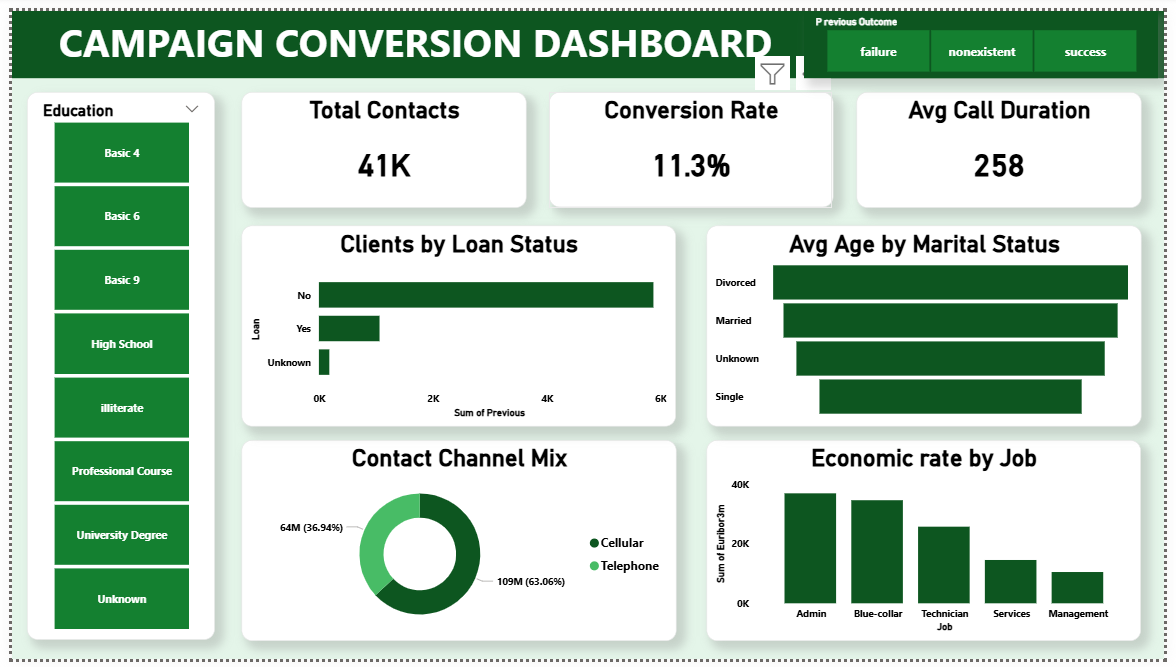

The dashboard page shown, as its layout file describes it:
{"tool":"powerbi","page":{"name":"Page 1","canvas":[1280,720],"ordinal":0},"visuals":[{"type":"textbox","box":[0,0,1280.8,74.5],"z":0},{"type":"card","title":"Avg Call Duration","fields":{"Values":["bankmarketing.Average Call Duration"]},"box":[938.3,90,316.7,128.3],"z":1000},{"type":"card","title":"Conversion Rate","fields":{"Values":["bankmarketing.Conversion Rate %"]},"box":[595.9,90.7,315.7,127.9],"z":2000},{"type":"card","title":"Total Contacts","fields":{"Values":["bankmarketing.Total Contacts"]},"box":[255,90,316.7,128.3],"z":3000},{"type":"clusteredColumnChart","title":"Economic rate by Job","fields":{"Category":["bankmarketing.Job"],"Y":["Sum(bankmarketing.Euribor3m)"]},"box":[772.4,476.1,482.5,223.5],"z":4000},{"type":"funnel","title":"Avg Age by Marital Status","fields":{"Category":["bankmarketing.Marital"],"Y":["Avg(bankmarketing.Age)"]},"box":[771.7,238.3,483.3,223.3],"z":5000},{"type":"donutChart","title":"Contact Channel Mix","fields":{"Category":["bankmarketing.Contact"],"Y":["Sum(bankmarketing.Nr.Employed)"]},"box":[255,476.7,483.3,223.3],"z":6000},{"type":"slicer","fields":{"Values":["bankmarketing.Education"]},"box":[16.2,90.7,208.9,608.8],"z":8000},{"type":"slicer","fields":{"Values":["bankmarketing.Poutcome"]},"box":[879.2,0,393.5,74.5],"z":9000},{"type":"clusteredBarChart","title":"Clients by Loan Status","fields":{"Category":["bankmarketing.Loan"],"Y":["Sum(bankmarketing.Previous)"]},"box":[254.2,238,482.5,223.5],"z":9001}]}

Visuals, with their boxes in screenshot pixels (x1, y1, x2, y2), scaled from the page's 1280x720 canvas onto the 1176x667 screenshot:
textbox: 0 0 1175 69
"Avg Call Duration" card: 862 83 1153 202
"Conversion Rate" card: 547 84 838 203
"Total Contacts" card: 234 83 525 202
"Economic rate by Job" clusteredColumnChart: 710 441 1153 648
"Avg Age by Marital Status" funnel: 709 221 1153 428
"Contact Channel Mix" donutChart: 234 442 678 648
slicer - bankmarketing.Education: 15 84 207 648
slicer - bankmarketing.Poutcome: 808 0 1169 69
"Clients by Loan Status" clusteredBarChart: 234 220 677 428
